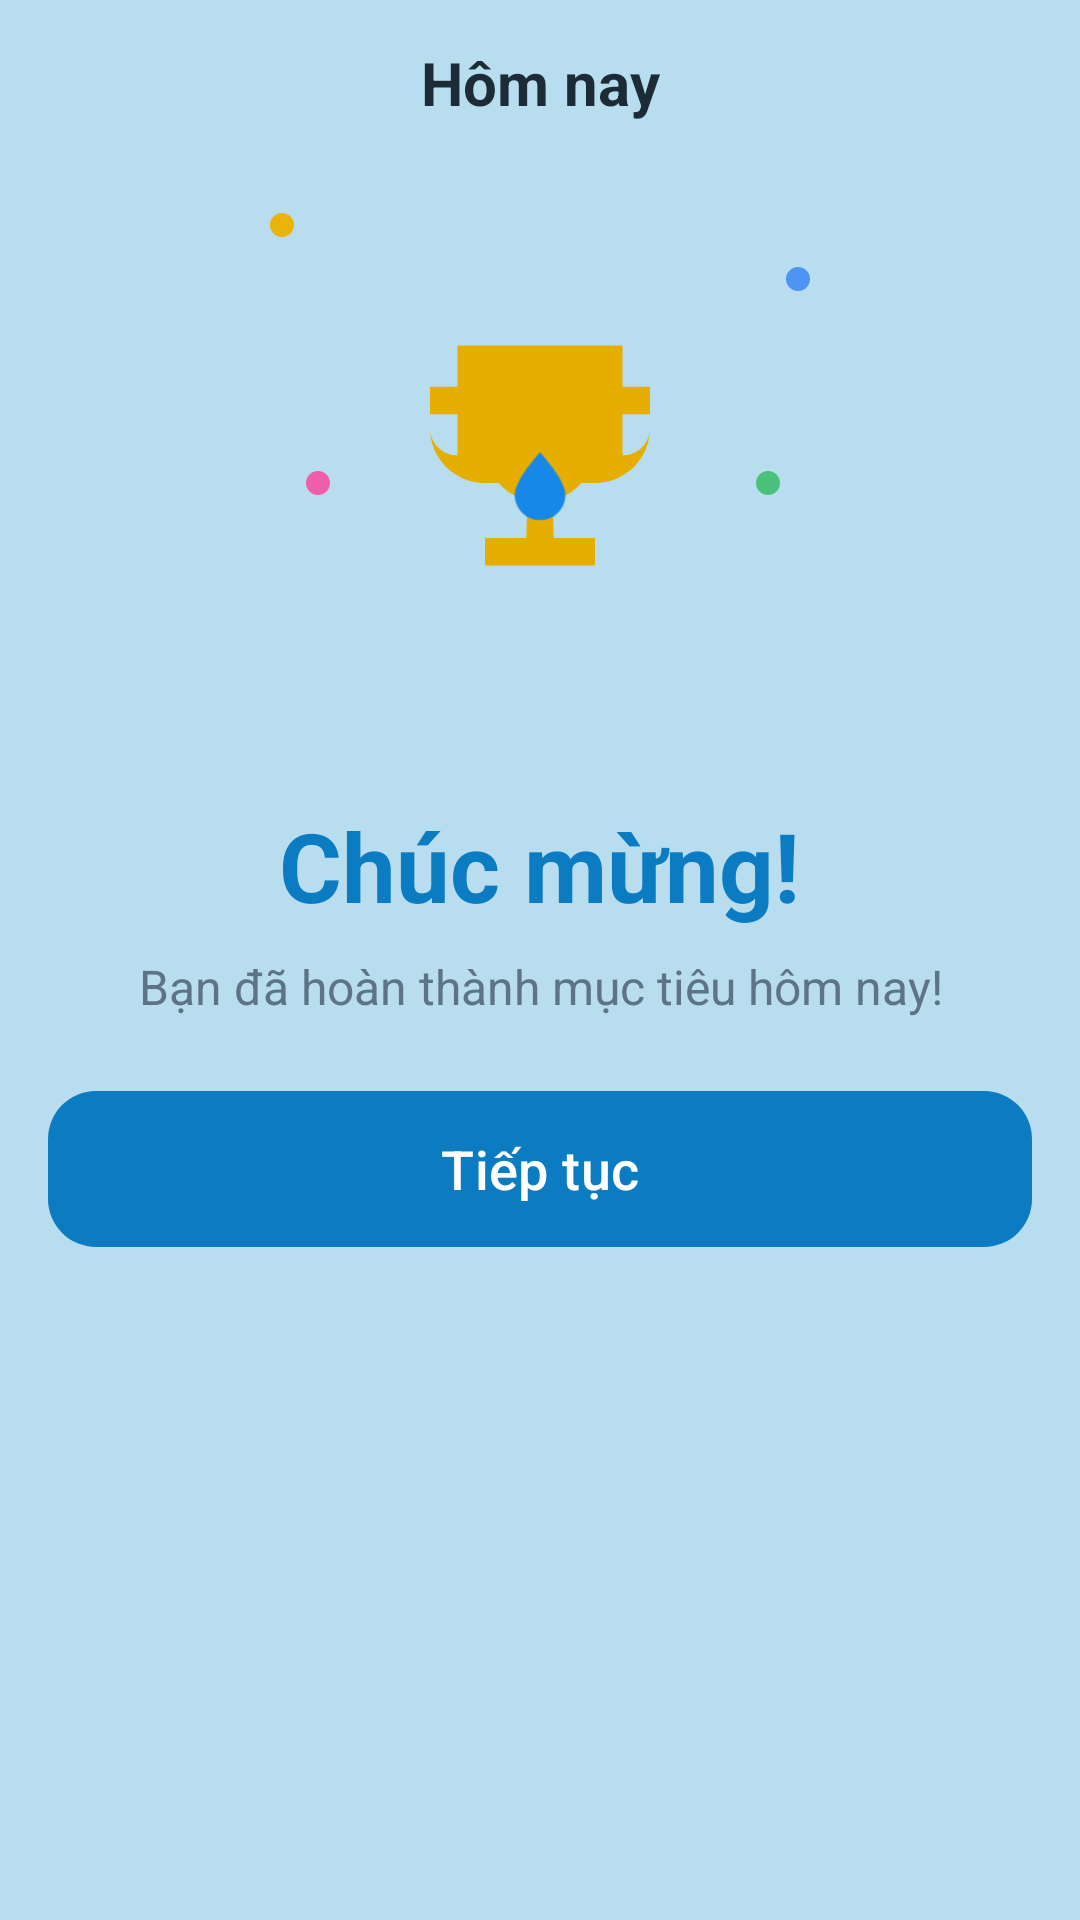

Locate icon controls on the screen. Image size 1080*1920, boxes as bbox=(x1, y1, x2, y2).
goal congrats: bbox=(430, 345, 650, 566)
